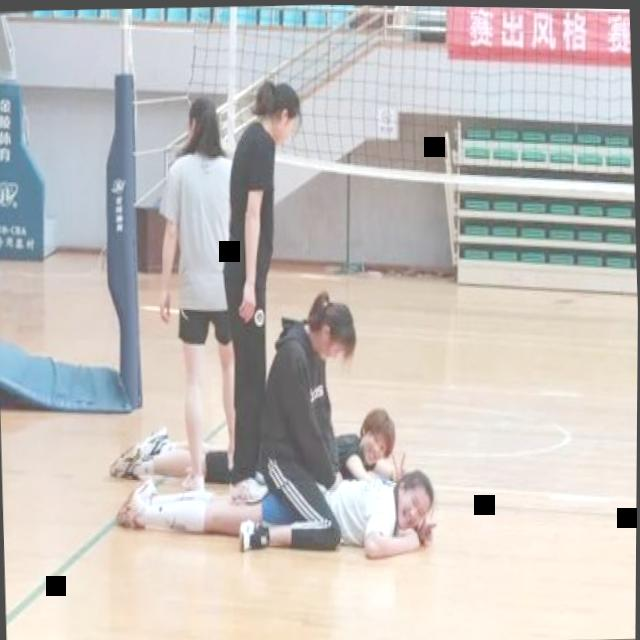Fall-Detected: (112, 416, 440, 568)
